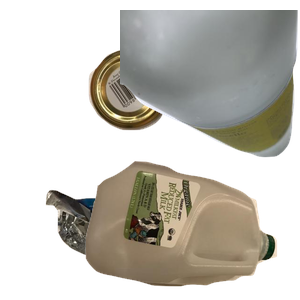glass: (120, 10, 300, 160)
metal: (86, 46, 248, 169)
plastic: (83, 159, 300, 300)
trash: (43, 187, 234, 300)
